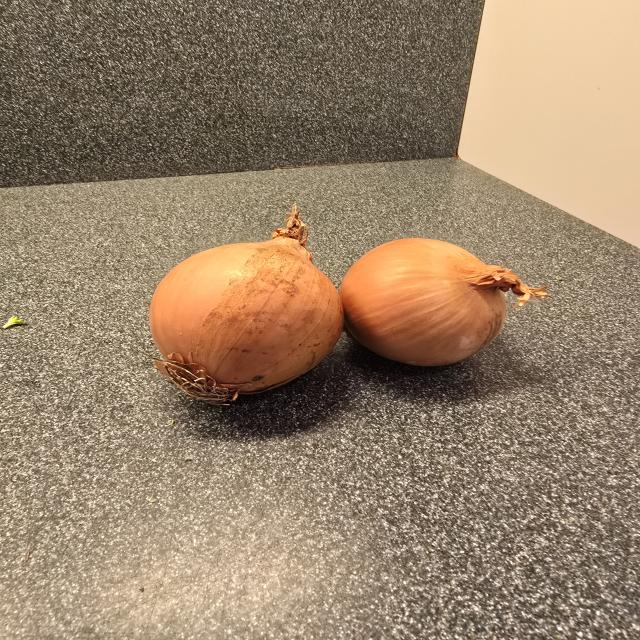Onion: (150, 216, 343, 401), (340, 238, 548, 366)
